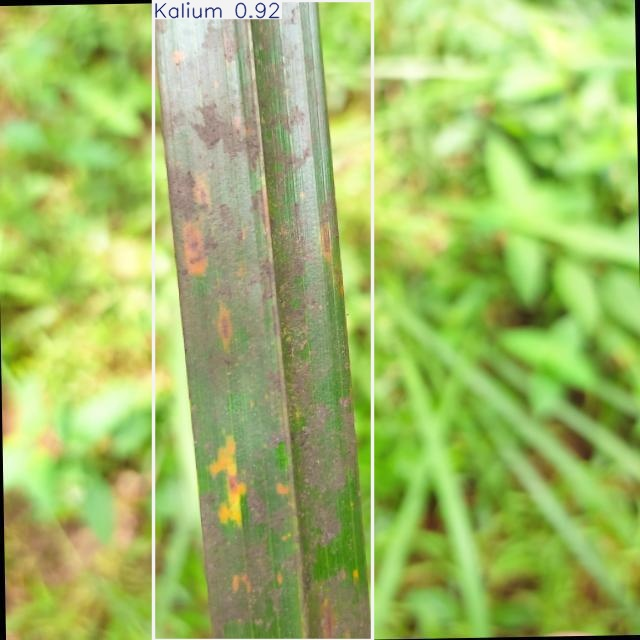Kalium: (153, 0, 373, 640)
